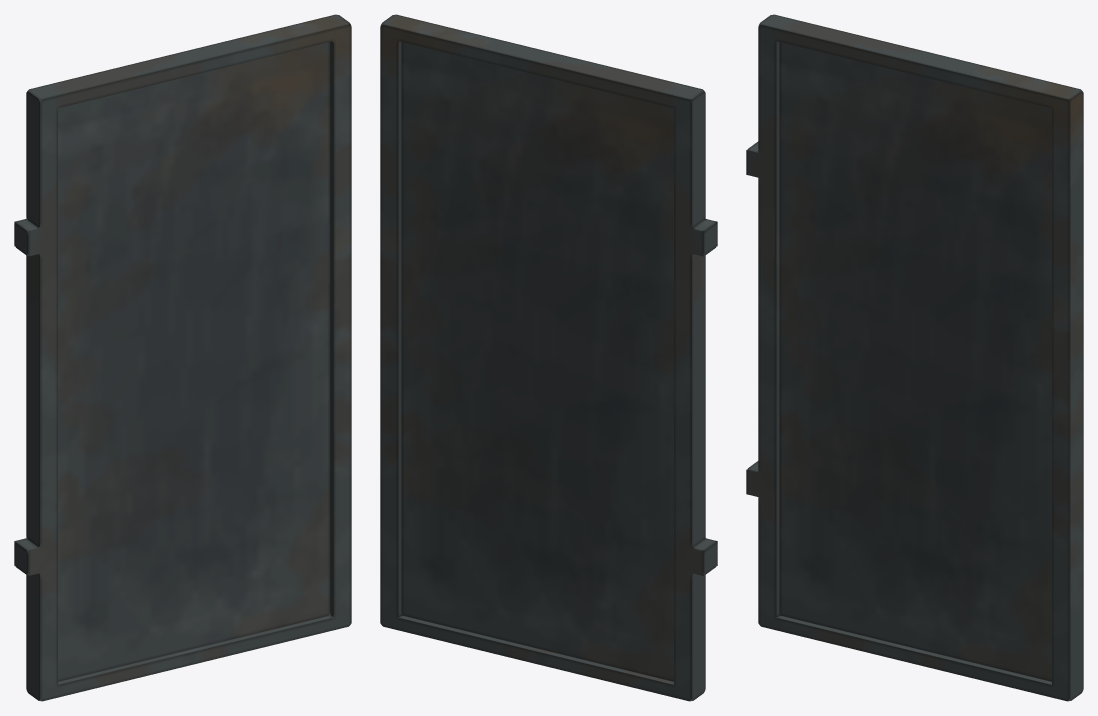
The model's file is AdvertisementSign.fbx.
3 views of the same model, side by side, from view 1: azimuth 30°, elevation 25°; view 2: azimuth 150°, elevation 25°; view 3: azimuth 330°, elevation 25° (orthographic).
Parts seen in each view (by area): view 1: Ad Sign; view 2: Ad Sign; view 3: Ad Sign.
Boxes of the visible parts, bbox=[...] form: Ad Sign: bbox=[14, 14, 351, 701]; Ad Sign: bbox=[380, 14, 717, 701]; Ad Sign: bbox=[746, 14, 1083, 701].
Size of the model in its own units: 169 by 300 by 12.5.
1 material, 1 textured.
